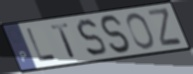L: (25, 27, 58, 63)
O: (125, 11, 157, 50)
S: (99, 14, 134, 56), (76, 18, 109, 59)
T: (49, 22, 78, 60)
Z: (146, 7, 184, 48)
